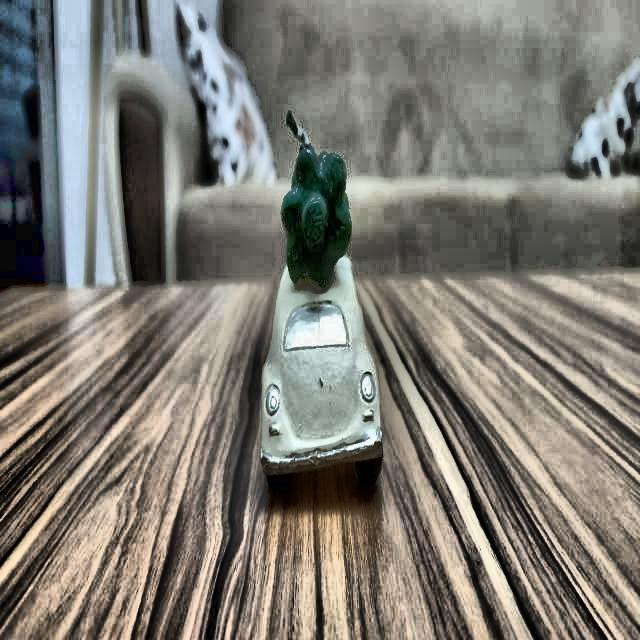carro: (252, 262, 389, 482)
